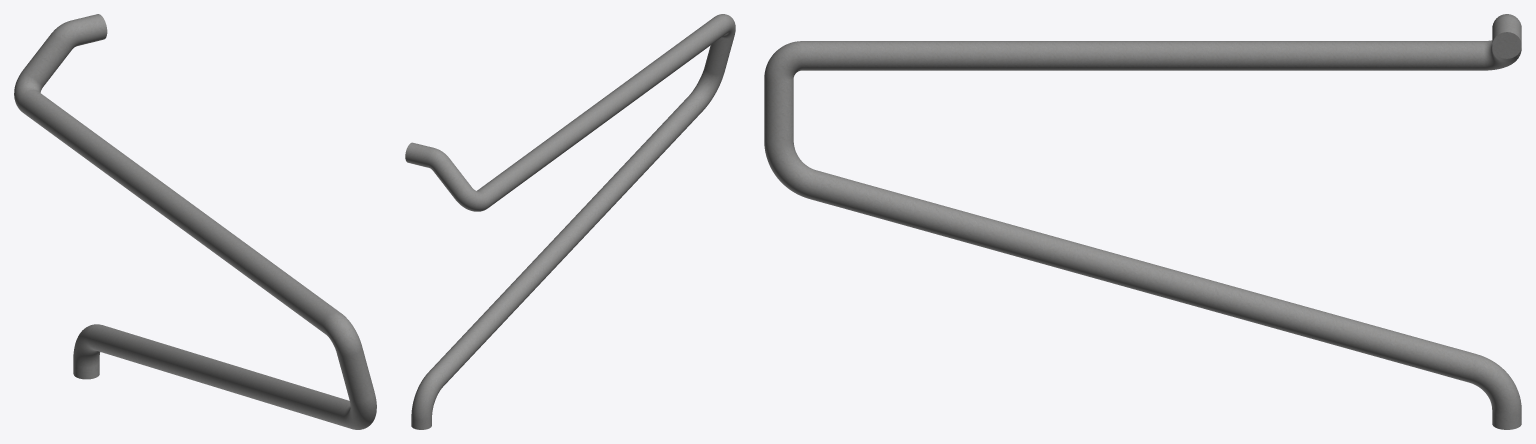
The model's file is isquioxl.glb.
The picture shows the model from 3 angles, left to right: view 1: azimuth 30°, elevation 25°; view 2: azimuth 150°, elevation 25°; view 3: azimuth 270°, elevation 25°; orthographic projection. The views are drawn at different scales.
Visible parts, largest first — view 1: isquioxl; view 2: isquioxl; view 3: isquioxl.
Boxes of the visible parts, x1,y1,x2,y2 form: isquioxl: [14, 14, 376, 429]; isquioxl: [405, 14, 735, 429]; isquioxl: [764, 14, 1521, 429].
Bounding box in the file's own units: 0.2039 × 0.7566 × 1.3.
Materials: 1 (1 with a texture image).
